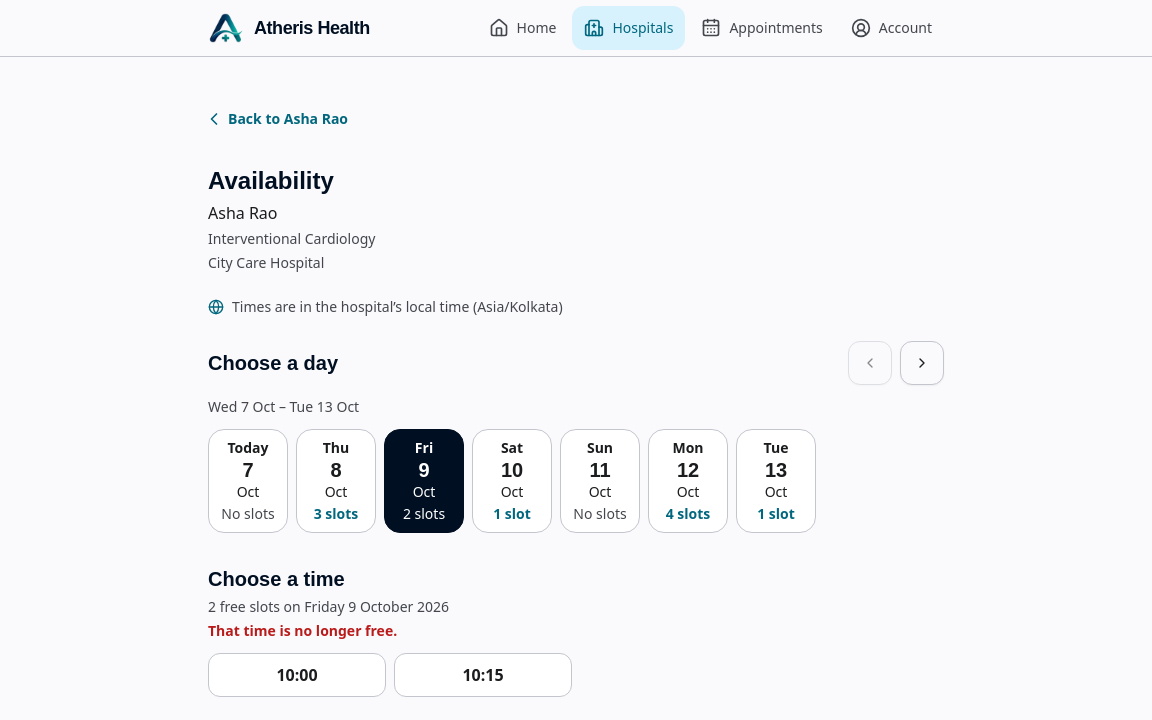
Test case: doctor availability — what the server returned, on the hospital’s clock › a time in the address that is no longer free is dropped from it, and said to be
expect the text "That time is no longer free." is shown: met, box x1=208 y1=621 x2=397 y2=640
# Choosing a time that is free puts the note away.
Click the button named "10:00 to 10:15". click: (297, 675)
box: x1=208 y1=653 x2=386 y2=697
(page scrolled)
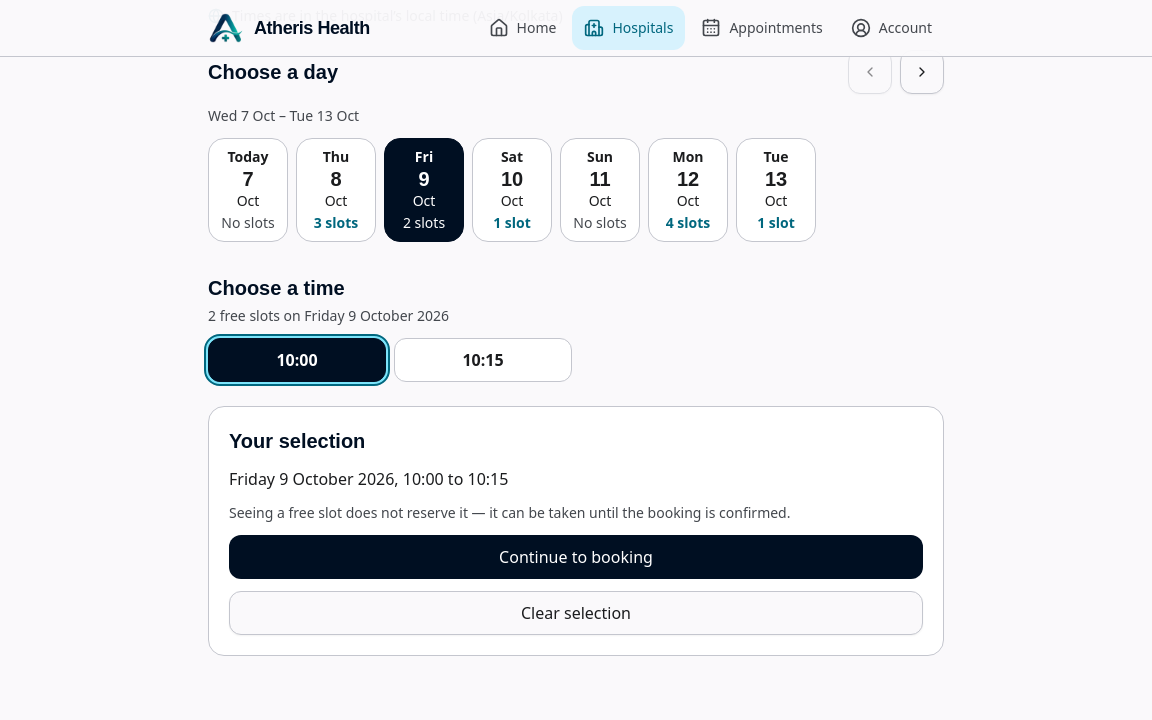
expect the link "Continue to booking" is shown: met, box x1=229 y1=535 x2=923 y2=579
expect the text "That time is no longer free." is gone: met
